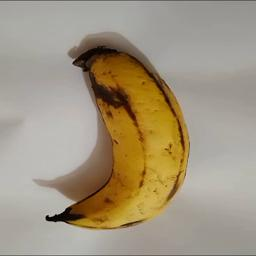Banana Semifresh: (47, 46, 193, 231)
